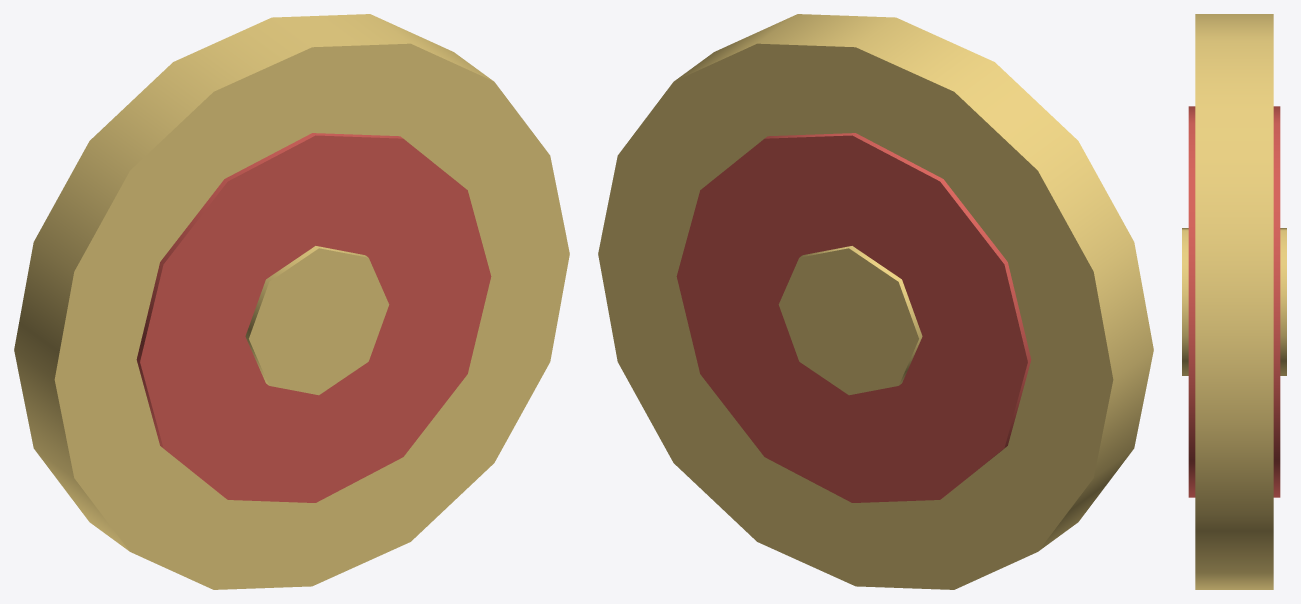
The model's file is item_chip.glb.
3 renders of one model, left to right at view 1: azimuth 30°, elevation 25°; view 2: azimuth 150°, elevation 25°; view 3: azimuth 270°, elevation 25°, orthographic. The views are drawn at different scales.
Visible parts, largest first — view 1: item_chip; view 2: item_chip; view 3: item_chip.
Part boxes in pixels (left/top/right/bottom): item_chip: left=14, top=14, right=569, bottom=589; item_chip: left=598, top=14, right=1153, bottom=589; item_chip: left=1182, top=14, right=1286, bottom=589.
Bounding box in the file's own units: 0.22 × 0.22 × 0.04.
